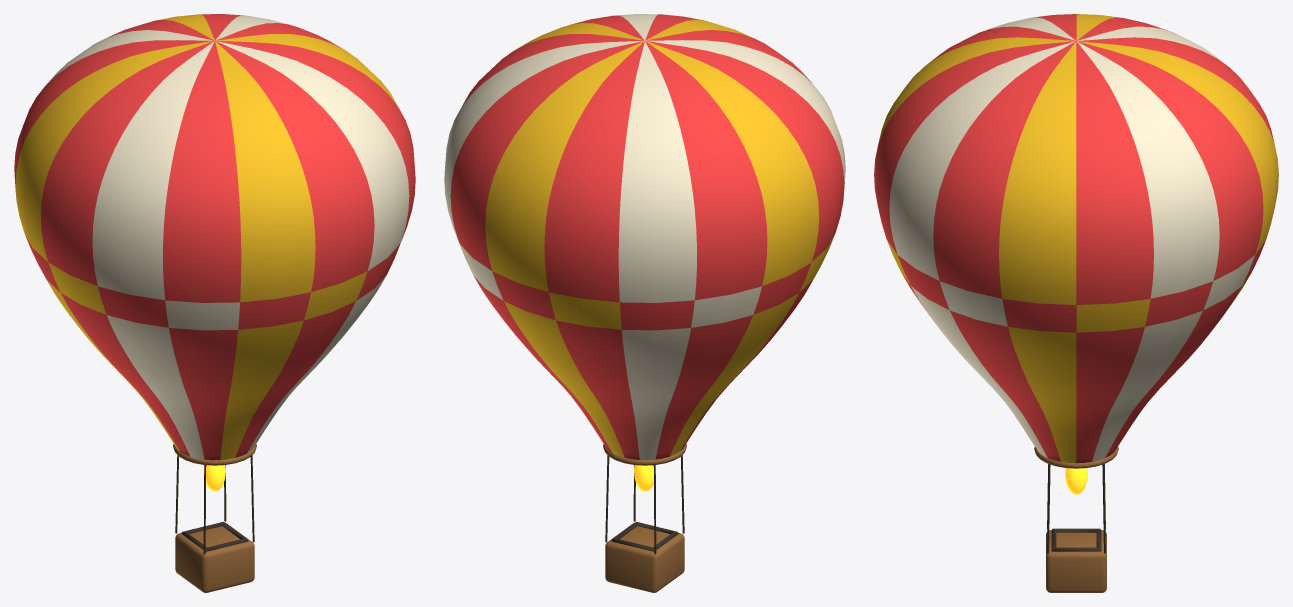
The model's file is balloon.glb.
3 views of the same model, side by side, from view 1: azimuth 30°, elevation 25°; view 2: azimuth 150°, elevation 25°; view 3: azimuth 270°, elevation 25° (orthographic).
Parts seen in each view (by area): view 1: Balloon; view 2: Balloon; view 3: Balloon.
Boxes of the visible parts, x1,y1,x2,y2 form: Balloon: [14, 14, 415, 592]; Balloon: [444, 14, 845, 592]; Balloon: [874, 14, 1278, 592].
Size of the model in its own units: 9.94 by 14.65 by 9.94.
